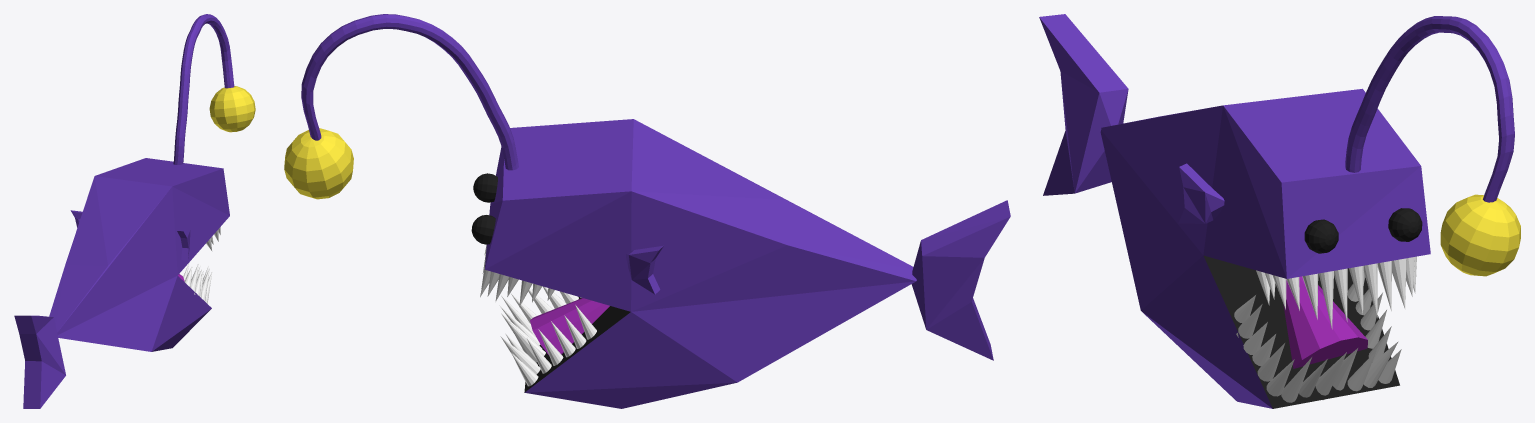
Rendered from fish.dae.
The picture shows the model from 3 angles, left to right: view 1: azimuth 30°, elevation 25°; view 2: azimuth 150°, elevation 25°; view 3: azimuth 270°, elevation 25°; orthographic projection. The views are drawn at different scales.
Parts seen in each view (by area): view 1: fishModel; view 2: fishModel; view 3: fishModel.
Boxes of the visible parts, bbox=[...] form: fishModel: bbox=[14, 14, 255, 408]; fishModel: bbox=[284, 14, 1010, 408]; fishModel: bbox=[1039, 14, 1520, 408].
Bounding box in the file's own units: 1.67 × 1.11 × 1.18.
